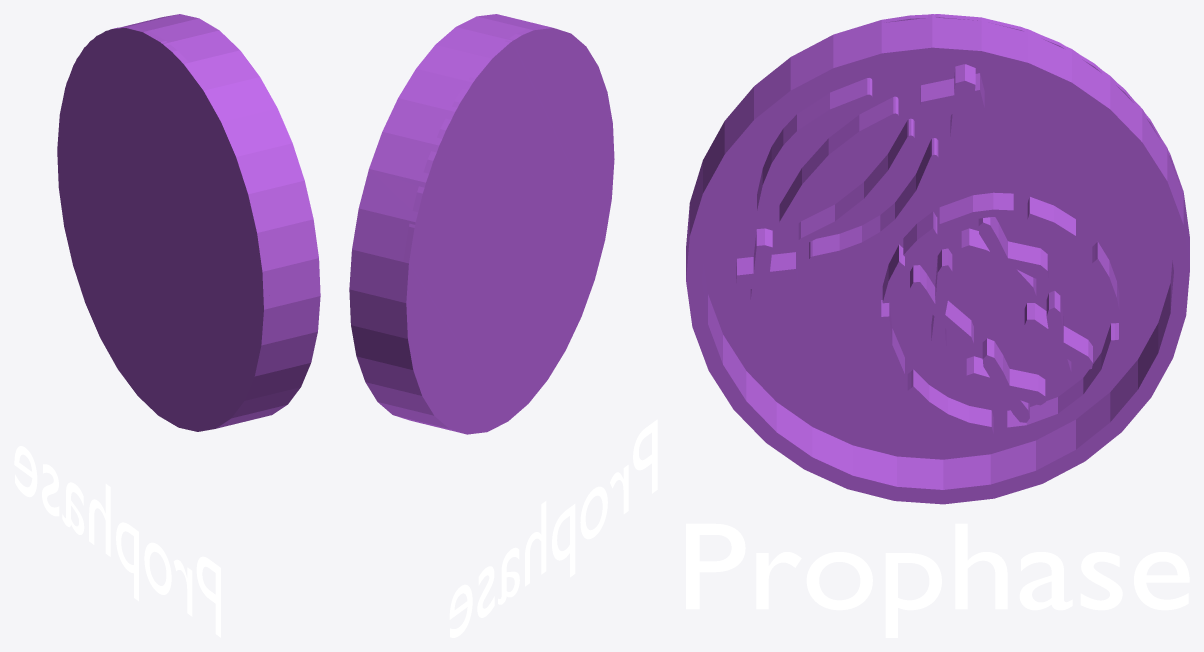
File: Prophase.glb
The picture shows the model from 3 angles, left to right: view 1: azimuth 30°, elevation 25°; view 2: azimuth 150°, elevation 25°; view 3: azimuth 270°, elevation 25°; orthographic projection. The views are drawn at different scales.
Parts seen in each view (by area): view 1: Text.003; view 2: Text.003; view 3: Text.003.
Boxes of the visible parts, bbox=[...] form: Text.003: bbox=[14, 14, 320, 637]; Text.003: bbox=[349, 14, 657, 637]; Text.003: bbox=[686, 14, 1189, 637].
Bounding box in the file's own units: 1.63 × 8.34 × 5.86.
